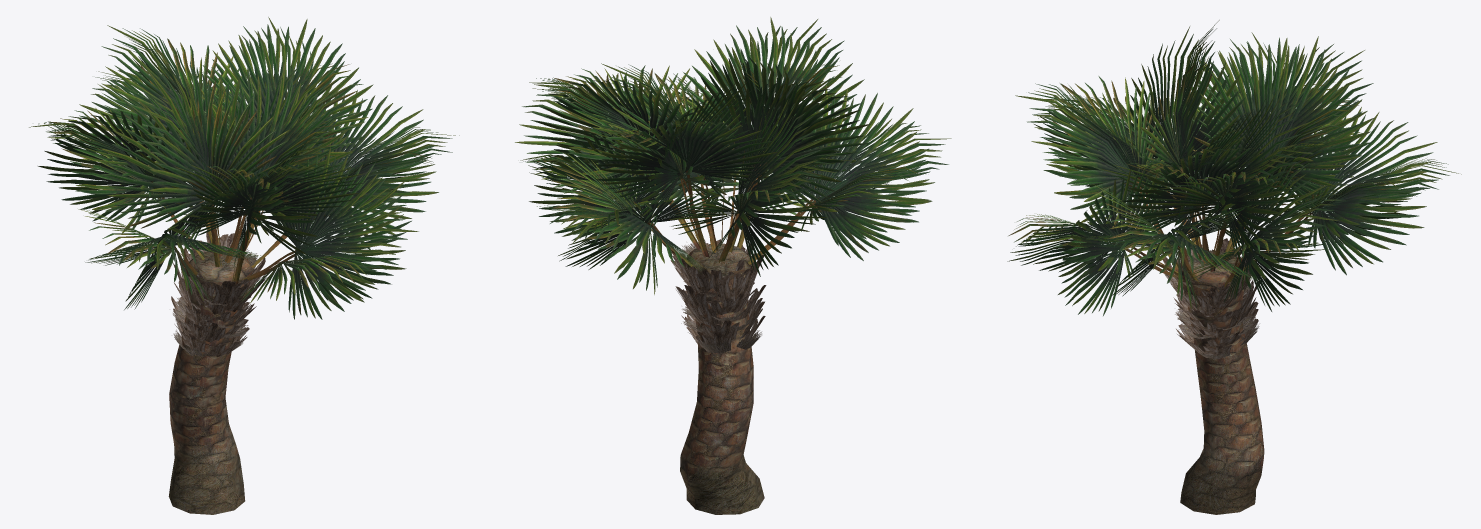
File: MB_Palm_Florida_03.fbx
The picture shows the model from 3 angles, left to right: view 1: azimuth 30°, elevation 25°; view 2: azimuth 150°, elevation 25°; view 3: azimuth 270°, elevation 25°; orthographic projection.
Parts seen in each view (by area): view 1: MB_Palm_Florida_03_LOD0; view 2: MB_Palm_Florida_03_LOD0; view 3: MB_Palm_Florida_03_LOD0.
Boxes of the visible parts, x1=… form: MB_Palm_Florida_03_LOD0: x1=29, y1=17, x2=459, y2=514; MB_Palm_Florida_03_LOD0: x1=515, y1=17, x2=951, y2=514; MB_Palm_Florida_03_LOD0: x1=1007, y1=20, x2=1461, y2=514.
Size of what is drawn, in the model's own units: 437 by 460 by 439.
